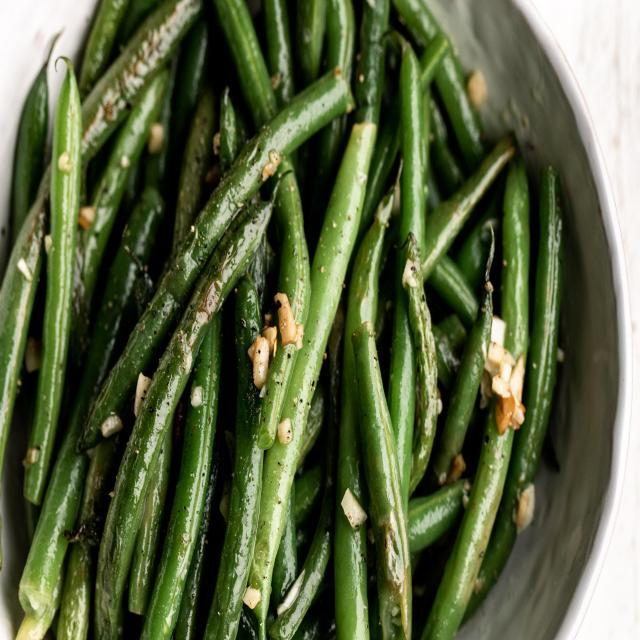Beans: (0, 0, 576, 639)
